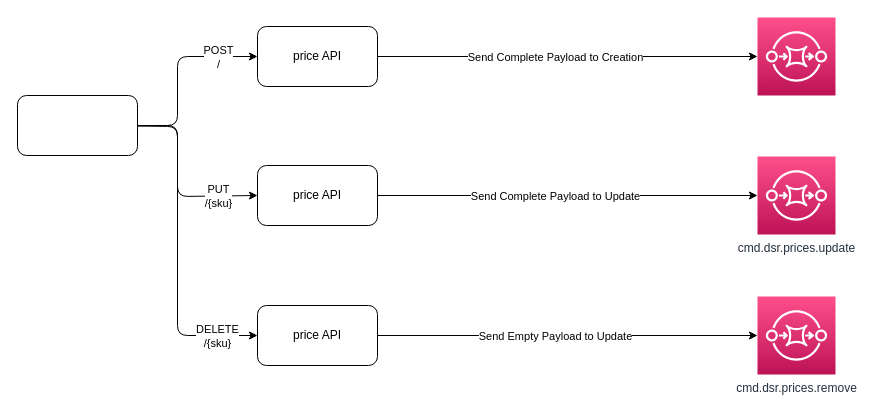
The diagram is 874 pixels wide and 413 high, and some of its shapes have lost their labels. The shapes that lost their labels are listed below. From the top down, each one's box as (x1, y1, x2, y2) in pixels, then its label:
(756, 16, 836, 96): cmd.dsr.prices.created
(16, 94, 138, 156): GraphQL
